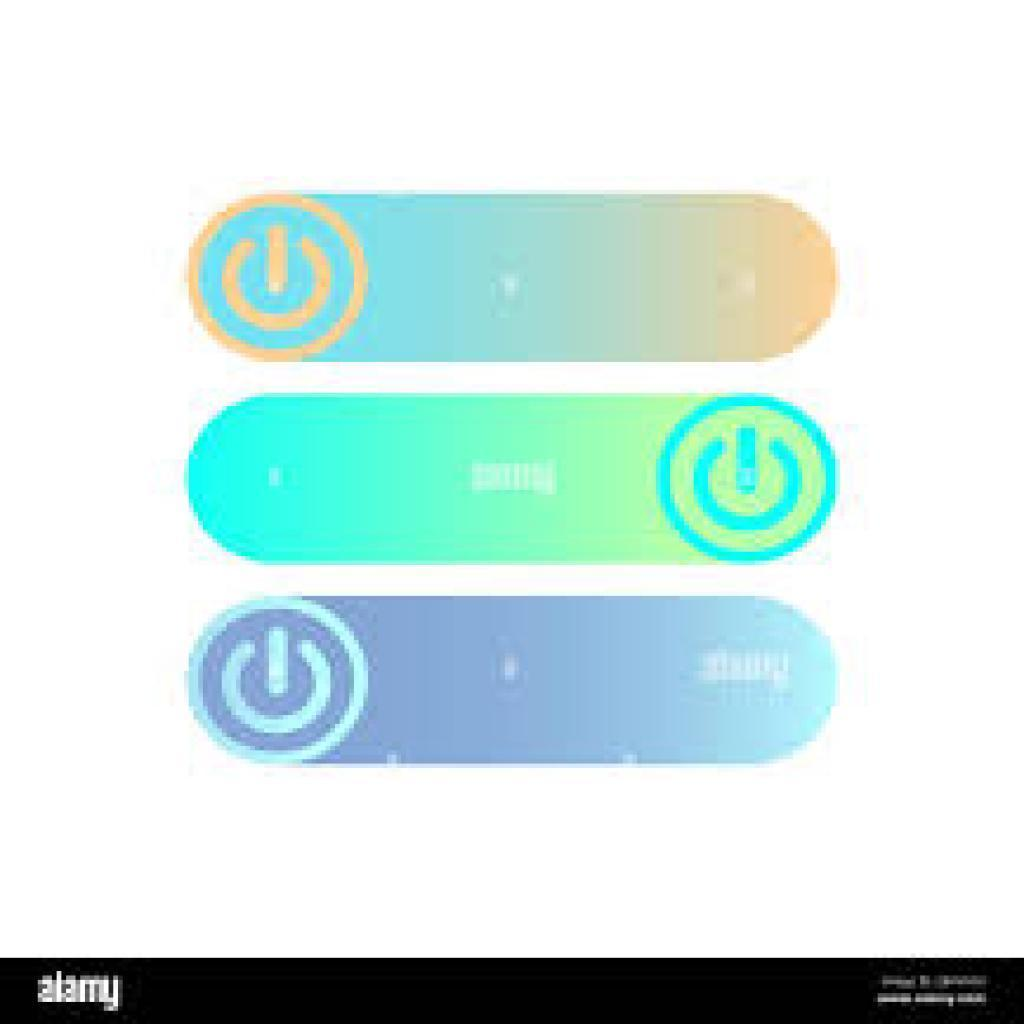switch: (187, 391, 837, 563), (190, 593, 837, 762), (187, 195, 843, 361)
